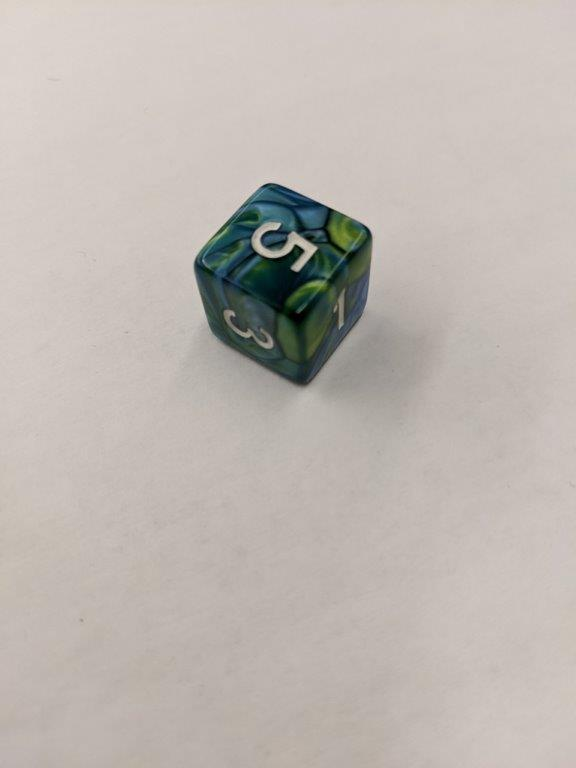d6-5: (193, 181, 373, 385)
